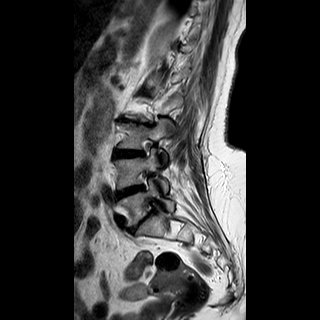LFS0: (132, 134, 158, 162)
LFS1: (128, 164, 155, 197)
